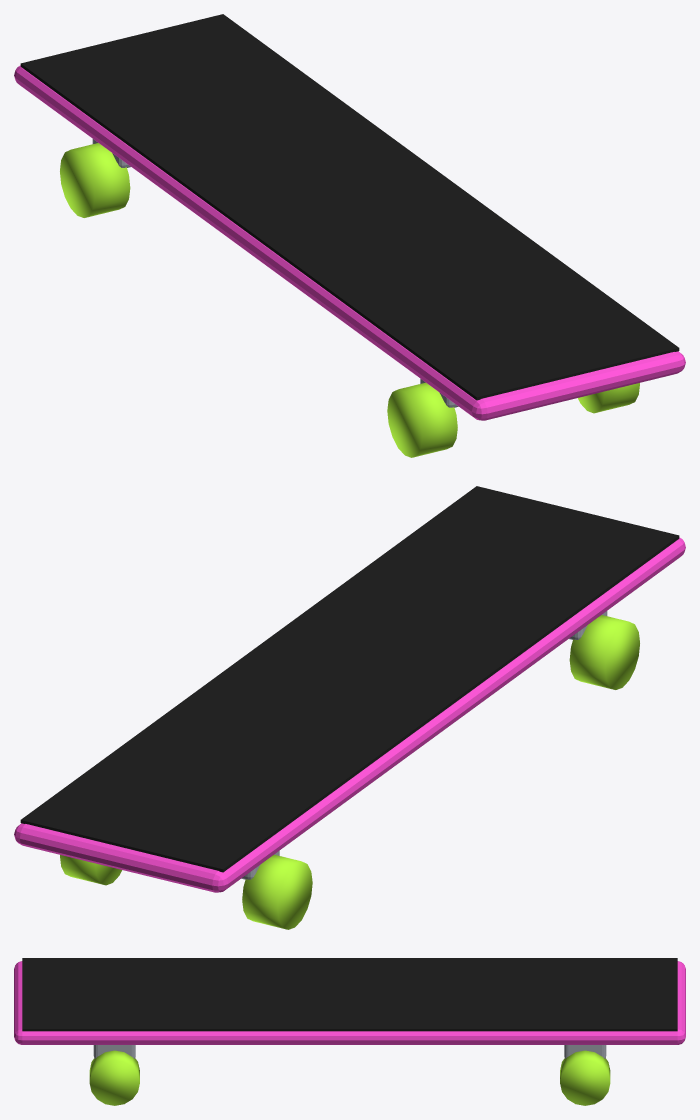
File: Street_Skateboard.fbx
The picture shows the model from 3 angles, top to bottom: view 1: azimuth 30°, elevation 25°; view 2: azimuth 150°, elevation 25°; view 3: azimuth 270°, elevation 25°; orthographic projection. The views are drawn at different scales.
Parts seen in each view (by area): view 1: Street_Skateboard; view 2: Street_Skateboard; view 3: Street_Skateboard.
Boxes of the visible parts, <box> form: Street_Skateboard: <box>14,14,685,457</box>; Street_Skateboard: <box>14,486,685,929</box>; Street_Skateboard: <box>14,958,685,1105</box>.
Size of the model in its own units: 0.215 by 0.0975 by 0.8.
